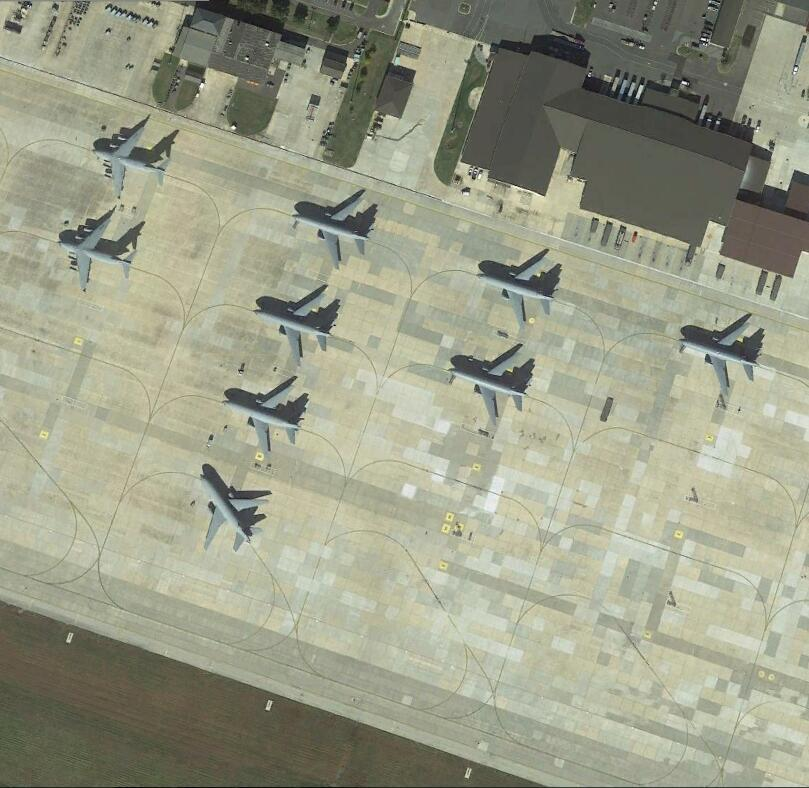A18: (678, 309, 764, 397), (473, 244, 561, 328), (221, 377, 309, 458), (253, 282, 340, 363), (451, 341, 535, 424), (288, 189, 378, 266), (196, 466, 272, 555)
A3: (59, 211, 142, 291), (92, 120, 172, 200)
